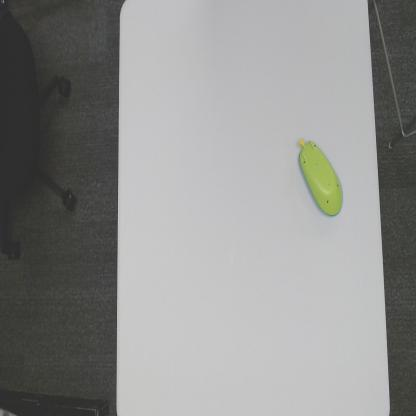Boat: (296, 131, 348, 226)
